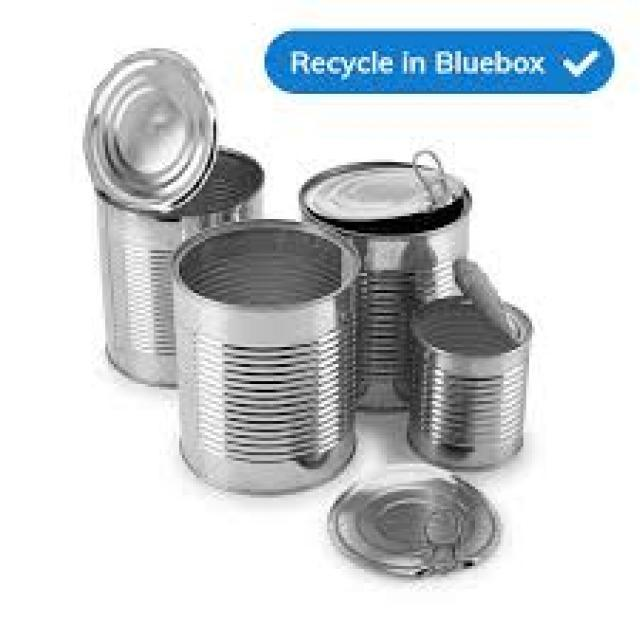recyclable: (168, 216, 353, 498), (91, 145, 265, 387), (298, 197, 466, 416), (76, 46, 214, 210), (406, 296, 524, 472), (327, 460, 501, 574), (302, 165, 464, 222), (450, 256, 520, 341)
